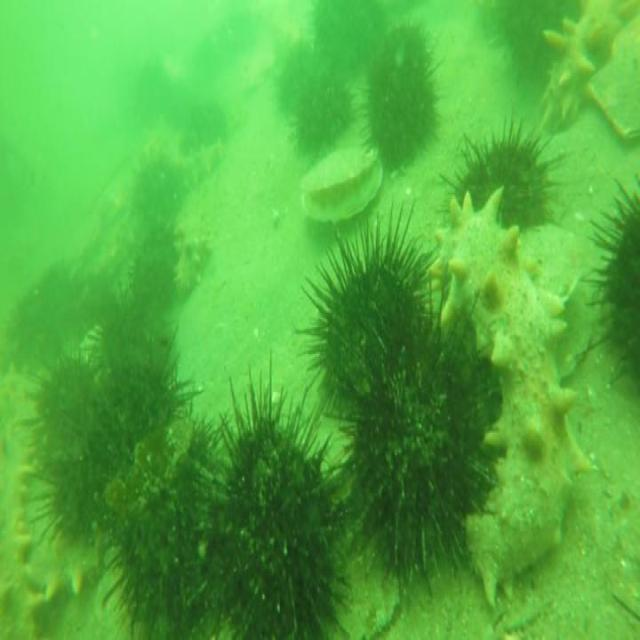echinus: (330, 325, 490, 599), (197, 357, 351, 640), (94, 400, 222, 640), (301, 215, 434, 420), (25, 350, 127, 540), (434, 125, 572, 232), (92, 329, 188, 463), (589, 164, 640, 397), (363, 41, 438, 171), (486, 0, 588, 92), (313, 0, 386, 84), (289, 73, 360, 158), (128, 146, 184, 238), (129, 240, 179, 326), (127, 49, 174, 133), (276, 38, 314, 130), (182, 96, 230, 154)
holothurian: (429, 193, 586, 612), (2, 366, 50, 640), (538, 0, 626, 134), (180, 138, 227, 198), (174, 229, 214, 297)
scallop: (516, 218, 588, 382), (590, 5, 640, 148), (298, 147, 386, 223)
